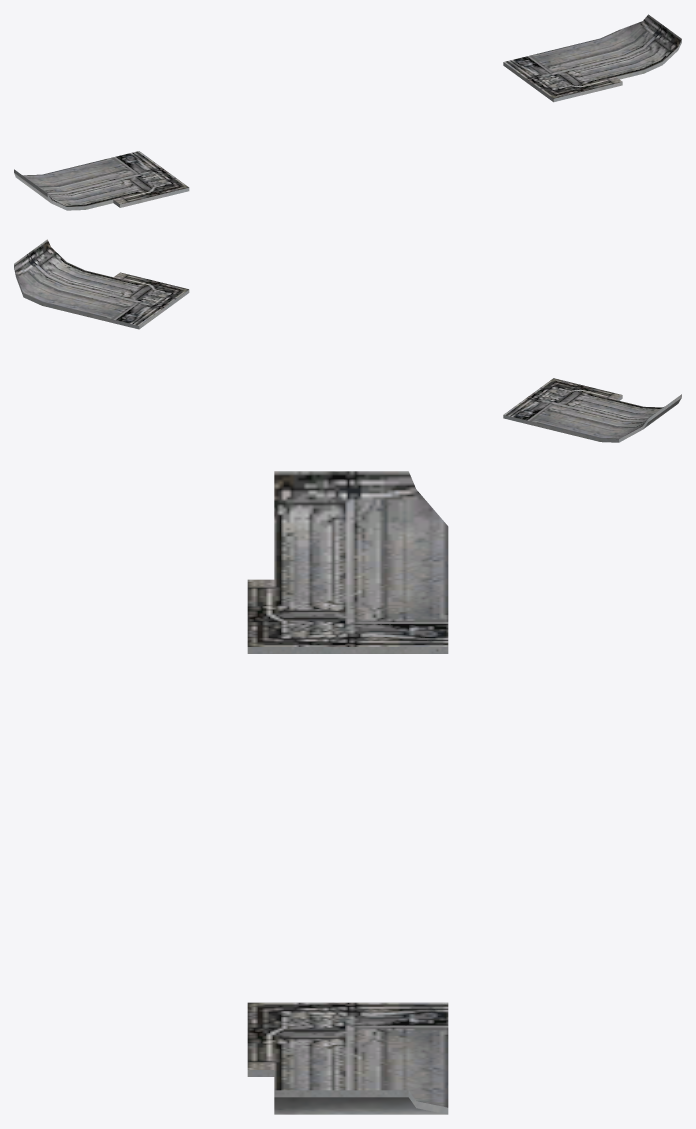
The model's file is lambda_geardoor_b_l0.fbx.
The picture shows the model from 3 angles, top to bottom: view 1: azimuth 30°, elevation 25°; view 2: azimuth 150°, elevation 25°; view 3: azimuth 270°, elevation 25°; orthographic projection. The views are drawn at different scales.
Parts seen in each view (by area): view 1: mesh_node; view 2: mesh_node; view 3: mesh_node.
Boxes of the visible parts, box(x1,y1,x2,y2) form: mesh_node: box(14, 14, 681, 210); mesh_node: box(14, 239, 681, 442); mesh_node: box(247, 471, 448, 1114).
Bounding box in the file's own units: 13.68 × 0.5259 × 1.88.
